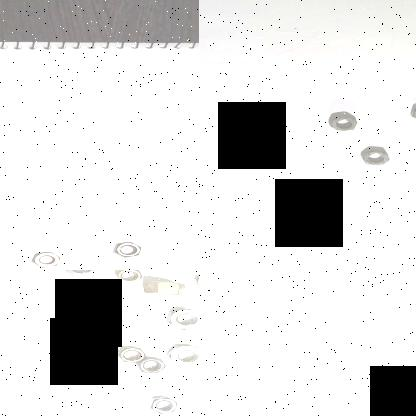NUTS: (71, 333, 115, 358), (77, 286, 117, 310), (166, 302, 199, 331), (143, 278, 189, 298), (168, 341, 199, 367), (24, 249, 64, 269), (77, 312, 110, 336), (114, 342, 146, 366), (358, 147, 392, 168), (145, 396, 179, 416), (139, 354, 169, 375), (110, 239, 144, 257), (326, 114, 360, 132), (110, 270, 144, 286), (58, 270, 102, 279), (406, 101, 416, 122), (192, 272, 199, 291)
